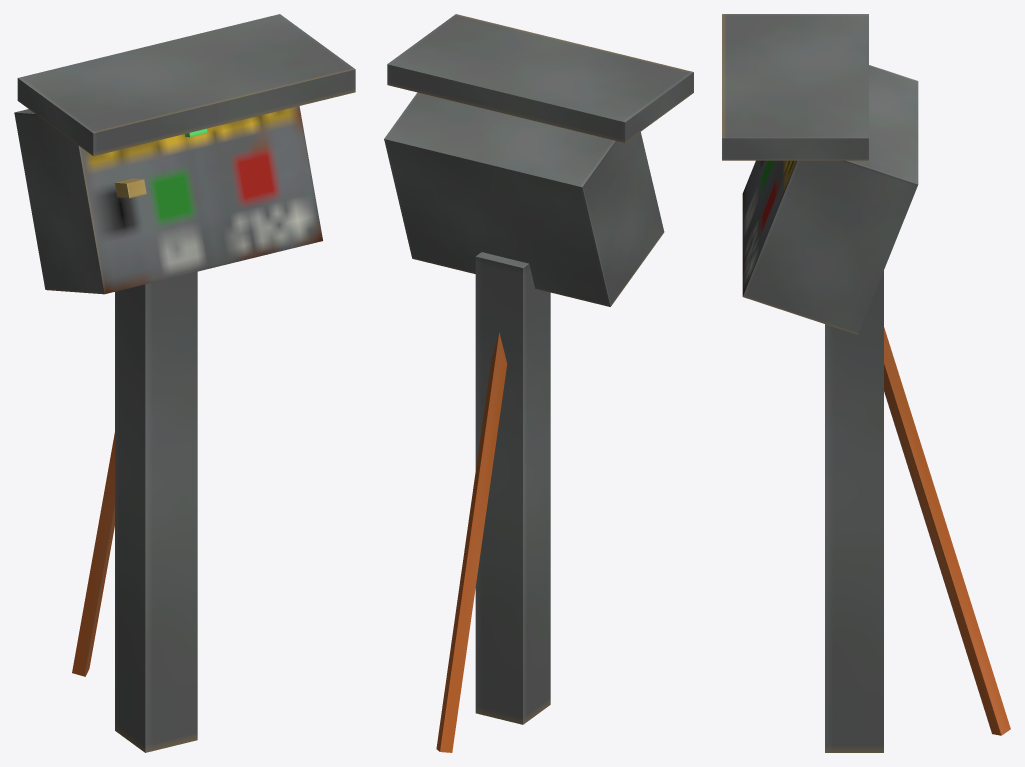
File: ride_panel.obj
The picture shows the model from 3 angles, left to right: view 1: azimuth 30°, elevation 25°; view 2: azimuth 150°, elevation 25°; view 3: azimuth 270°, elevation 25°; orthographic projection. The views are drawn at different scales.
Parts seen in each view (by area): view 1: ride_panel; view 2: ride_panel; view 3: ride_panel.
Boxes of the visible parts, bbox=[...] form: ride_panel: bbox=[14, 14, 355, 752]; ride_panel: bbox=[384, 14, 693, 752]; ride_panel: bbox=[722, 14, 1010, 752].
Size of the model in its own units: 0.6 by 1.5 by 0.5892.
1 material, 1 textured.
